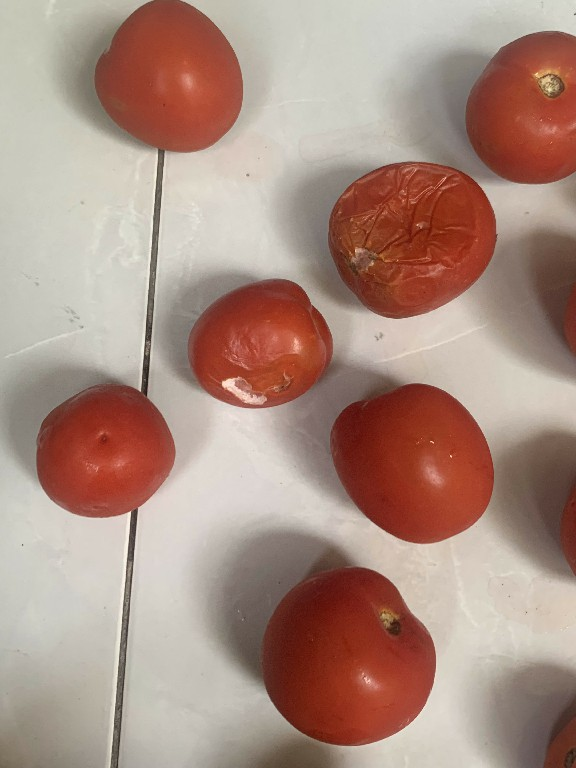NG: (320, 157, 502, 321), (180, 275, 332, 414)
OK: (255, 559, 444, 755), (326, 380, 509, 548), (78, 0, 252, 155), (30, 379, 185, 520), (466, 28, 576, 200)
